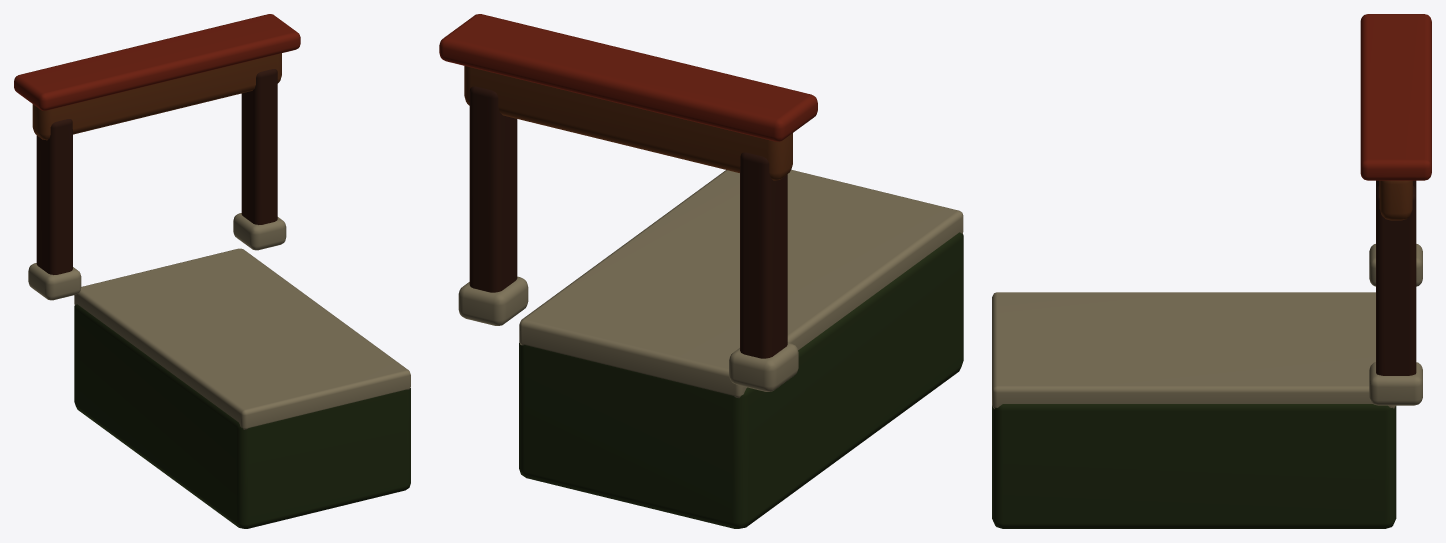
The model's file is ENT_Village_Gate_A.fbx.
3 views of the same model, side by side, from view 1: azimuth 30°, elevation 25°; view 2: azimuth 150°, elevation 25°; view 3: azimuth 270°, elevation 25° (orthographic). The views are drawn at different scales.
Parts seen in each view (by area): view 1: ENT_Village_Gate_A_LOD0; view 2: ENT_Village_Gate_A_LOD0; view 3: ENT_Village_Gate_A_LOD0.
Part boxes in pixels (left/top/right/bottom): ENT_Village_Gate_A_LOD0: left=14, top=14, right=410, bottom=528; ENT_Village_Gate_A_LOD0: left=439, top=14, right=963, bottom=528; ENT_Village_Gate_A_LOD0: left=992, top=14, right=1431, bottom=528.
Size of what is drawn, in the model's own units: 2.65 by 3.25 by 3.27.
